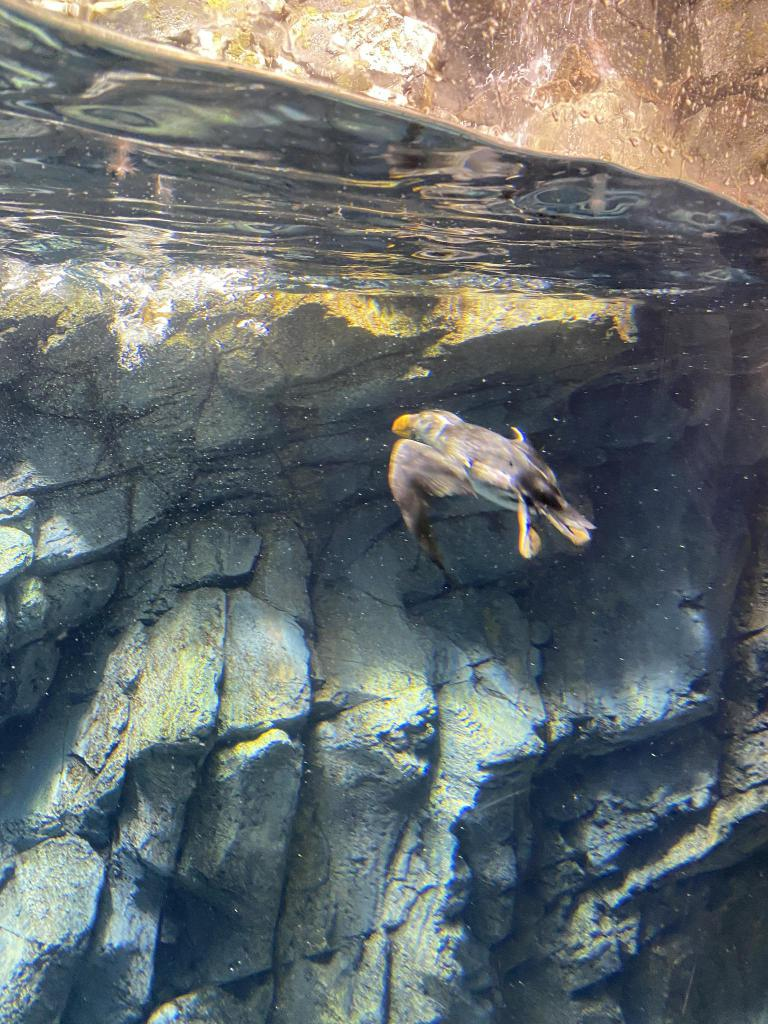puffin: (382, 396, 600, 578)
